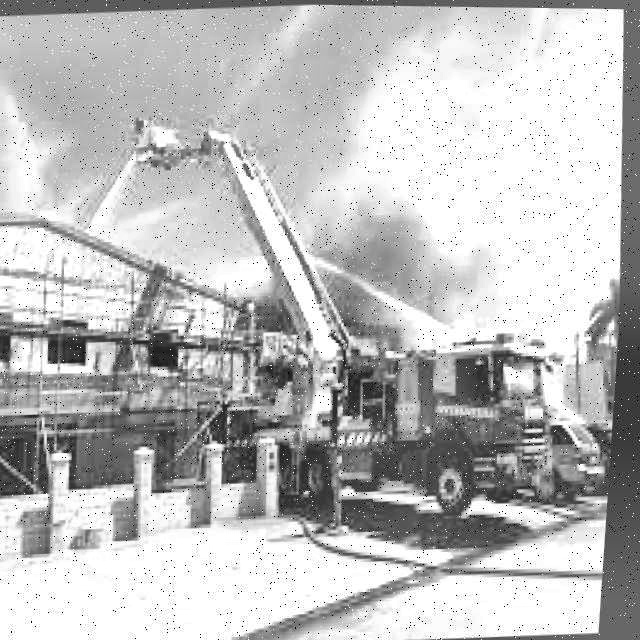Smoke: (278, 26, 639, 371)
